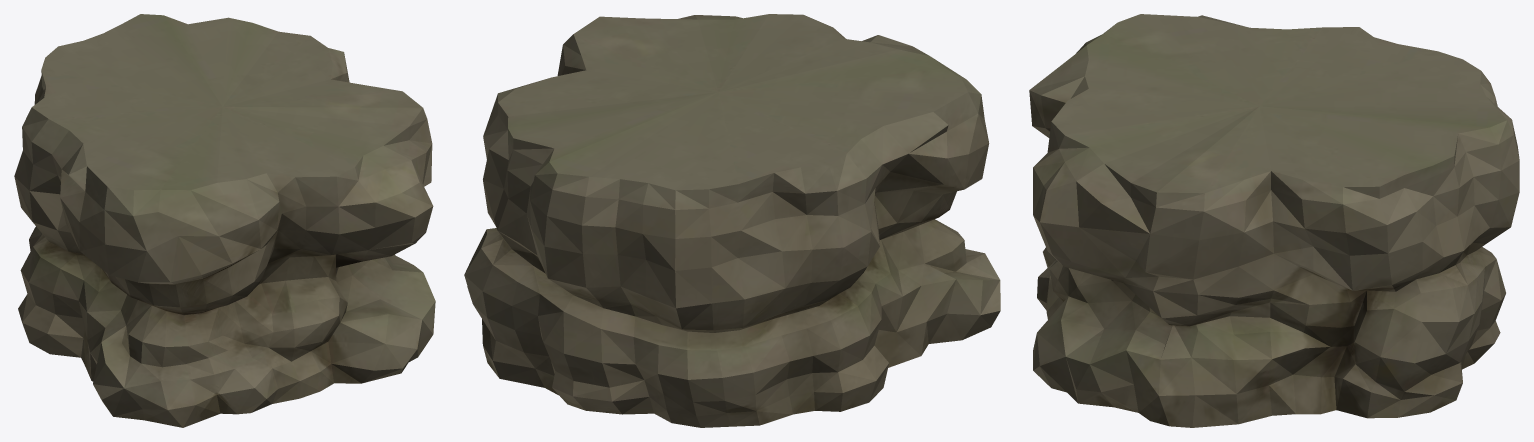
The model's file is bloc_rocheux_socle.glb.
3 views of the same model, side by side, from view 1: azimuth 30°, elevation 25°; view 2: azimuth 150°, elevation 25°; view 3: azimuth 270°, elevation 25° (orthographic). The views are drawn at different scales.
Visible parts, largest first — view 1: bloc_rocheux_socle; view 2: bloc_rocheux_socle; view 3: bloc_rocheux_socle.
Part boxes in pixels (box(x1,y1,x2,y2)): bloc_rocheux_socle: box(14, 14, 435, 427); bloc_rocheux_socle: box(464, 14, 1000, 427); bloc_rocheux_socle: box(1029, 14, 1519, 427).
Size of the model in its own units: 1.86 by 1.11 by 2.05.
Materials: 1 (1 with a texture image).
